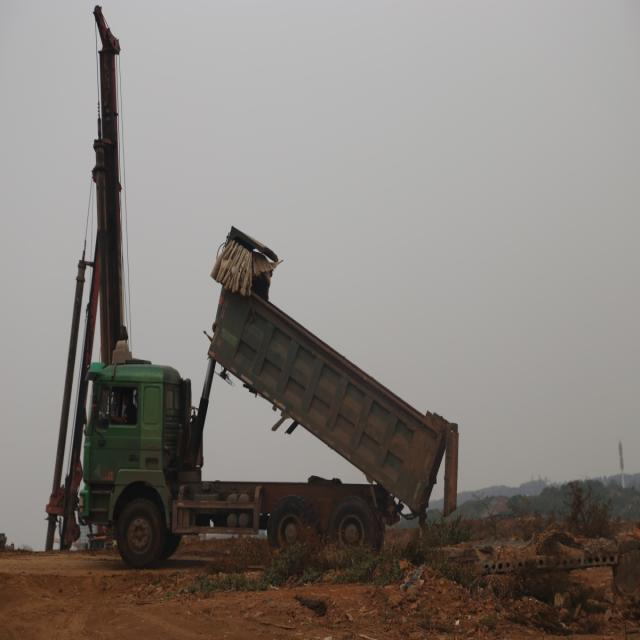truck: (77, 224, 458, 570)
